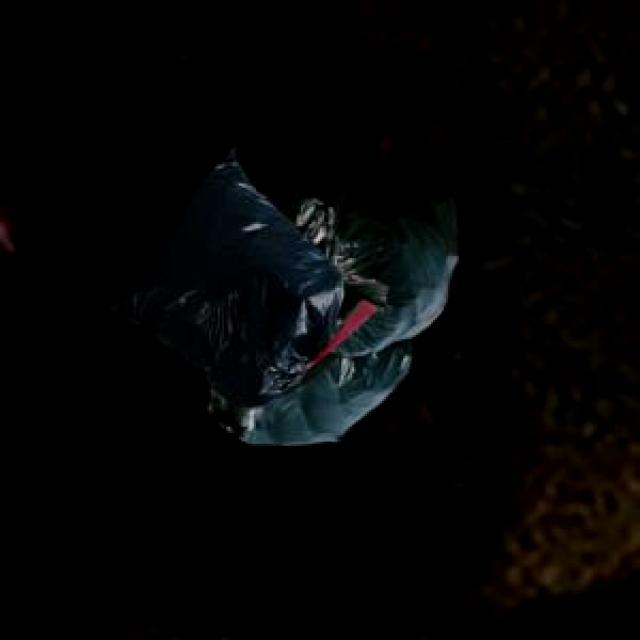Trashbag: (128, 138, 348, 405), (315, 194, 465, 361)
